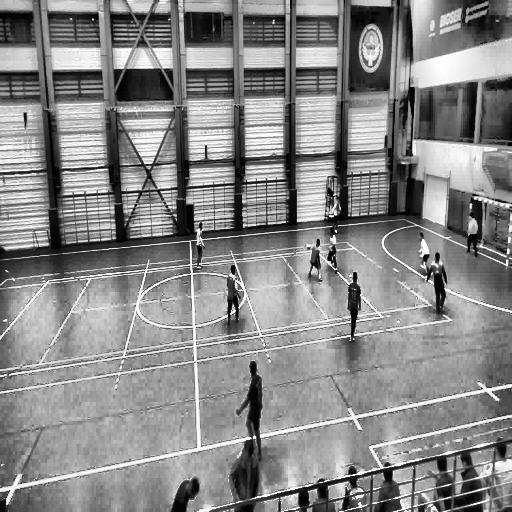ball: (307, 242, 311, 251)
player: (236, 361, 264, 459), (427, 251, 447, 315), (347, 270, 362, 342), (227, 263, 241, 325), (307, 238, 322, 280), (418, 230, 430, 280), (326, 225, 338, 274), (466, 212, 478, 256), (194, 222, 204, 270), (331, 195, 343, 234)
